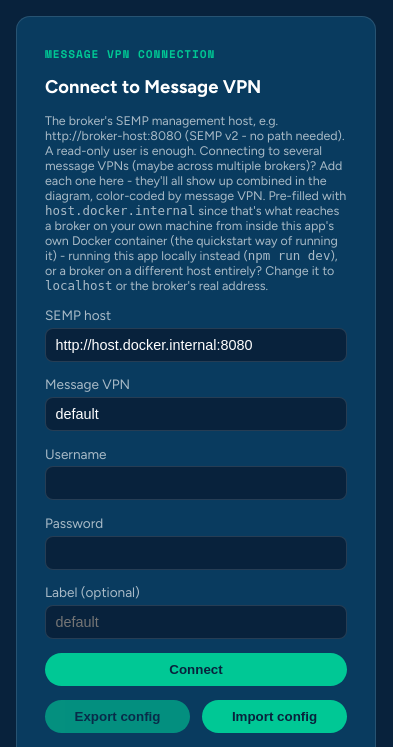
ConnectScreen - first connection (no brokers yet) › shows the server's error message on a failed connect
The image size is (393, 747).
Type "ro" into the field labelled "Username" at (196, 483), box [45, 466, 347, 500]
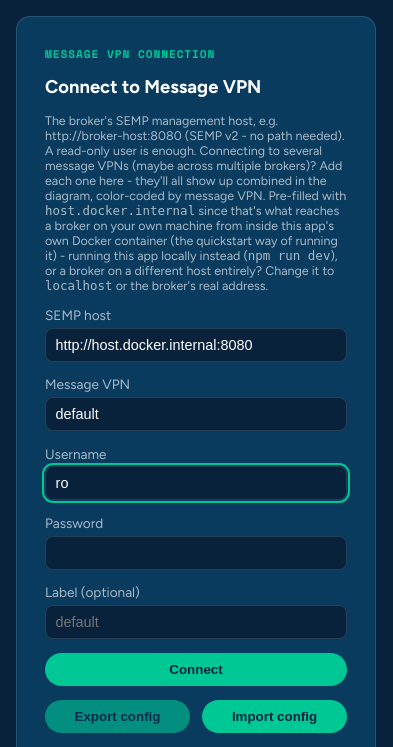
Type "wrong" into the password field labelled "Password" at (196, 552), box [45, 536, 347, 570]
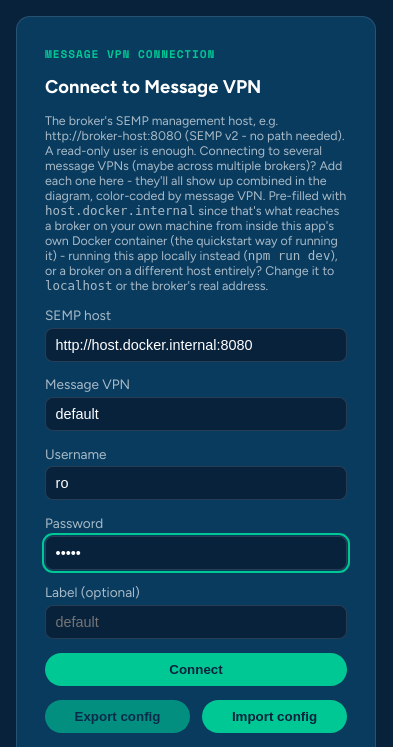
Click the button "Connect" at (196, 669), box [45, 653, 347, 686]
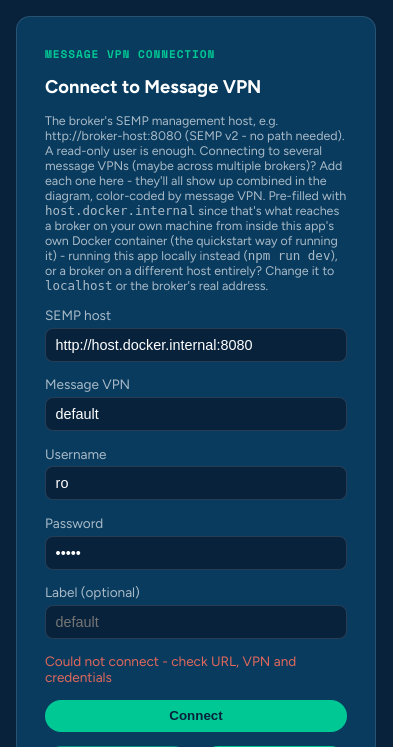
Result: the text "Could not connect - check URL, VPN and credentials" is shown at [45, 653, 296, 685]
